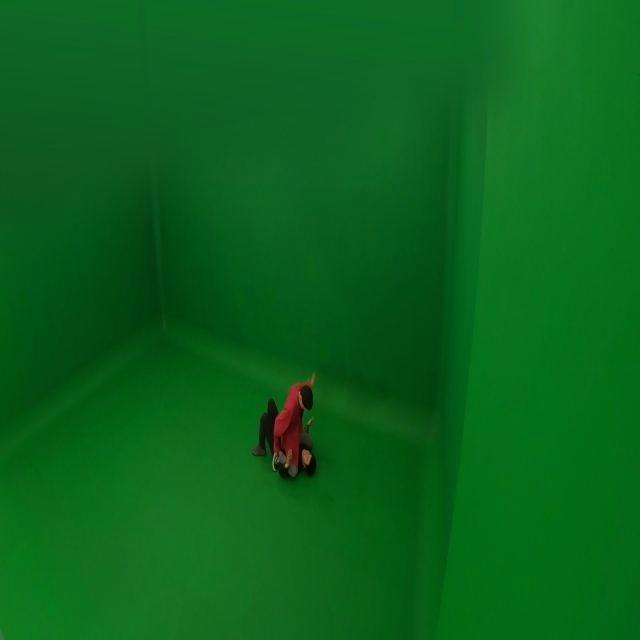fight: (252, 376, 320, 480)
